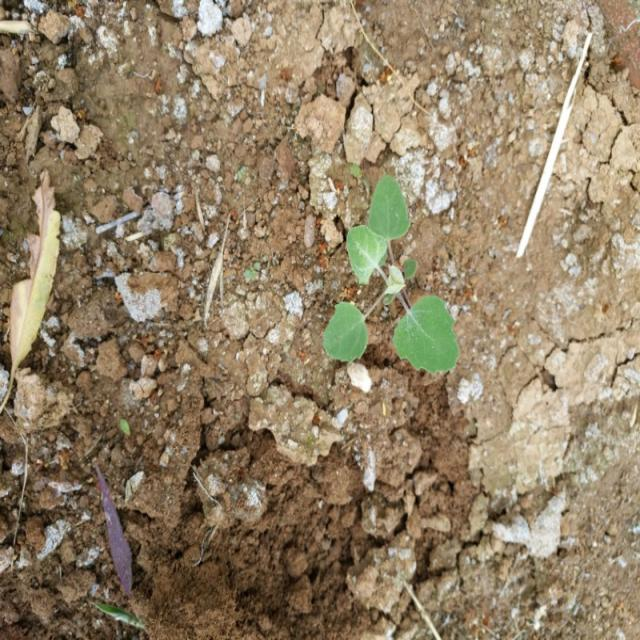ca: (320, 174, 461, 380)
